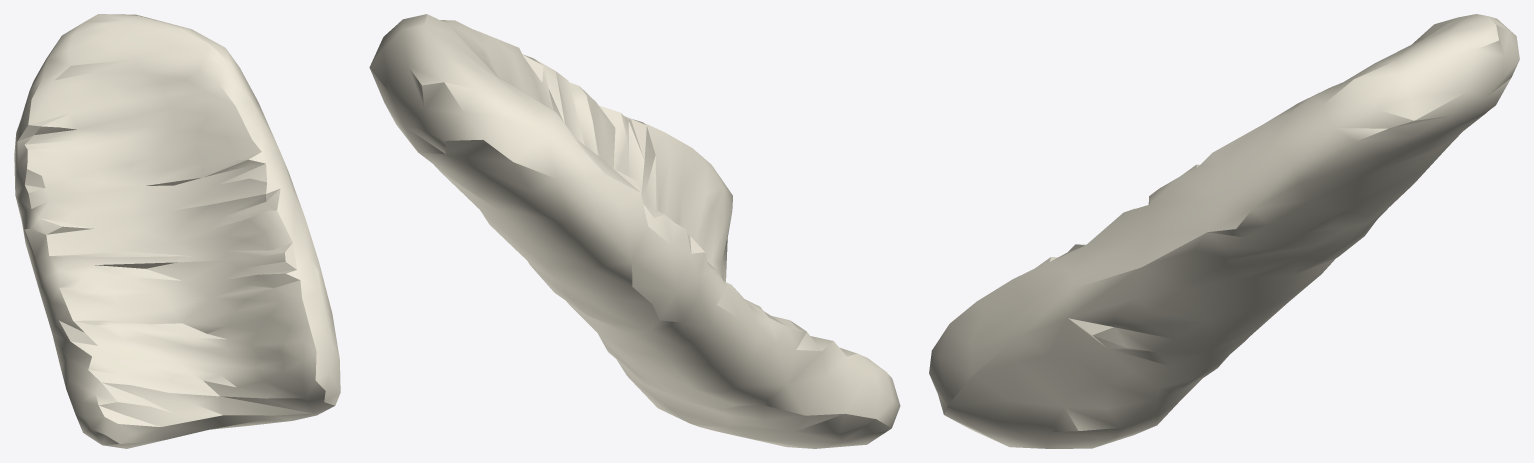
Rendered from fma44450_mm1374m.glb.
The picture shows the model from 3 angles, left to right: view 1: azimuth 30°, elevation 25°; view 2: azimuth 150°, elevation 25°; view 3: azimuth 270°, elevation 25°; orthographic projection. The views are drawn at different scales.
Visible parts, largest first — view 1: FMA44450_MM1374M; view 2: FMA44450_MM1374M; view 3: FMA44450_MM1374M.
Boxes of the visible parts, x1,y1,x2,y2 form: FMA44450_MM1374M: (14,14,340,448); FMA44450_MM1374M: (369,14,900,448); FMA44450_MM1374M: (929,14,1519,448).
Size of the model in its own units: 0.00751 by 0.00923 by 0.0114.
